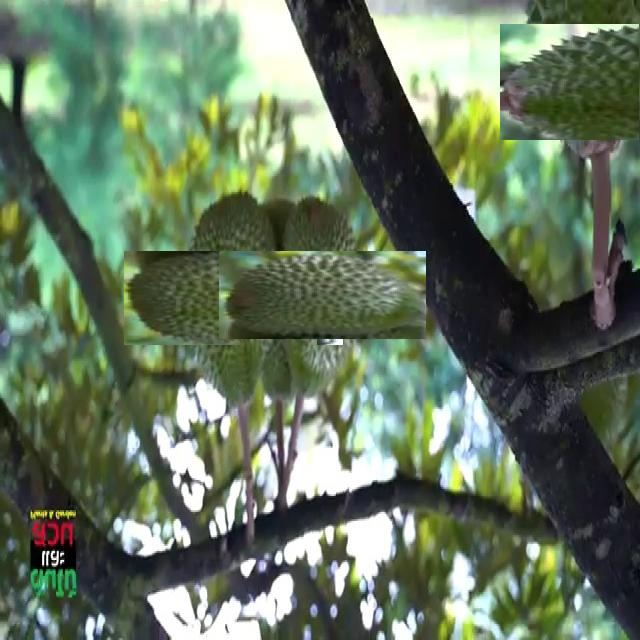durian: (154, 219, 312, 377), (248, 220, 396, 368), (511, 13, 640, 152), (241, 192, 317, 414)
